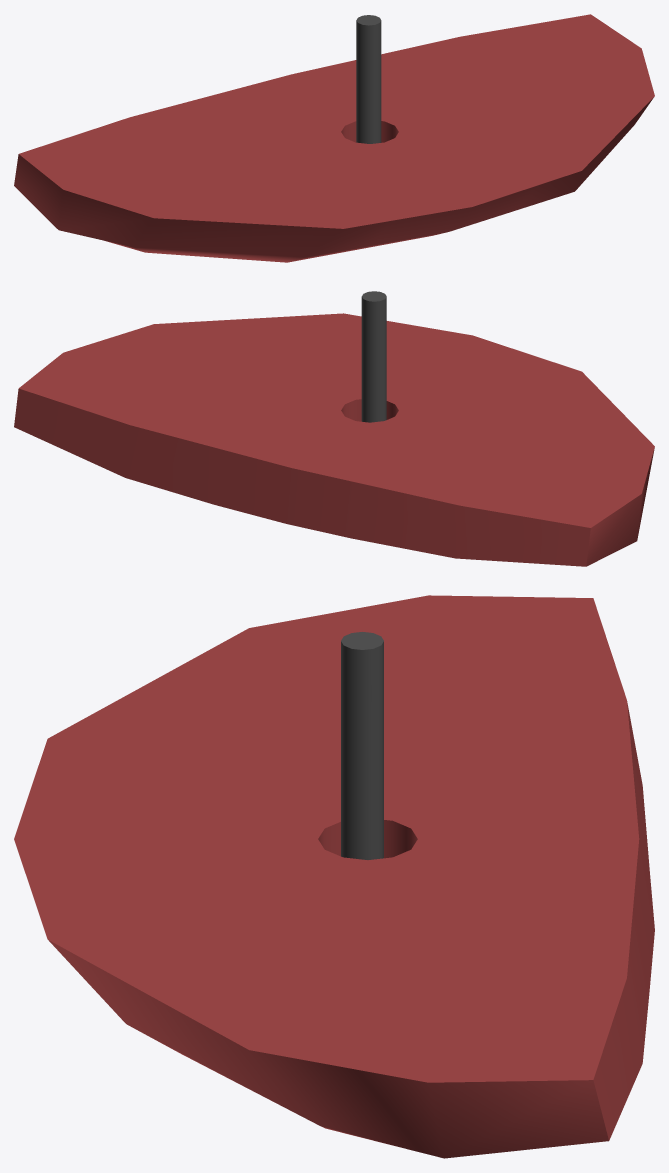
File: crimp_med.fbx
3 renders of one model, top to bottom at view 1: azimuth 30°, elevation 25°; view 2: azimuth 150°, elevation 25°; view 3: azimuth 270°, elevation 25°, orthographic. The views are drawn at different scales.
Parts seen in each view (by area): view 1: crimp_med_hold, crimp_med_bolt; view 2: crimp_med_hold, crimp_med_bolt; view 3: crimp_med_hold, crimp_med_bolt.
Part boxes in pixels (<box>): crimp_med_hold: <box>14,14,654,262</box>; crimp_med_bolt: <box>356,15,381,143</box>; crimp_med_hold: <box>14,313,654,566</box>; crimp_med_bolt: <box>361,291,386,422</box>; crimp_med_hold: <box>14,595,654,1158</box>; crimp_med_bolt: <box>341,632,383,859</box>.
Bounding box in the file's own units: 11.98 × 3.46 × 6.66.
